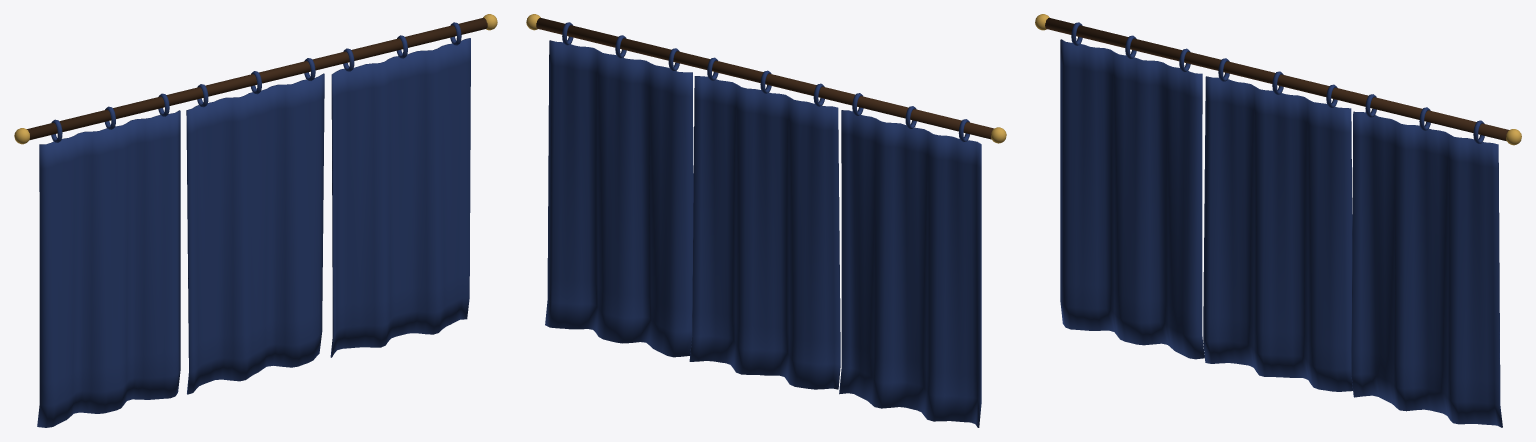
Rendered from noren.glb.
The picture shows the model from 3 angles, left to right: view 1: azimuth 30°, elevation 25°; view 2: azimuth 150°, elevation 25°; view 3: azimuth 330°, elevation 25°; orthographic projection.
Visible parts, largest first — view 1: NorenPanel0, NorenPanel2, NorenPanel1, NorenRod; view 2: NorenPanel1, NorenPanel2, NorenPanel0, NorenRod; view 3: NorenPanel1, NorenPanel2, NorenPanel0, NorenRod.
Part boxes in pixels (x1,y1,x2,y2): NorenPanel0: [37, 93, 180, 427]; NorenPanel2: [330, 22, 470, 357]; NorenPanel1: [186, 58, 324, 394]; NorenRod: [27, 17, 487, 140]; NorenPanel1: [689, 57, 840, 389]; NorenPanel2: [545, 22, 693, 357]; NorenPanel0: [839, 93, 981, 427]; NorenRod: [536, 17, 993, 139]; NorenPanel1: [1203, 58, 1352, 391]; NorenPanel2: [1351, 94, 1502, 427]; NorenPanel0: [1060, 22, 1204, 359]; NorenRod: [1045, 17, 1508, 141].
Size of the model in its own units: 1.15 by 0.698 by 0.0494.
